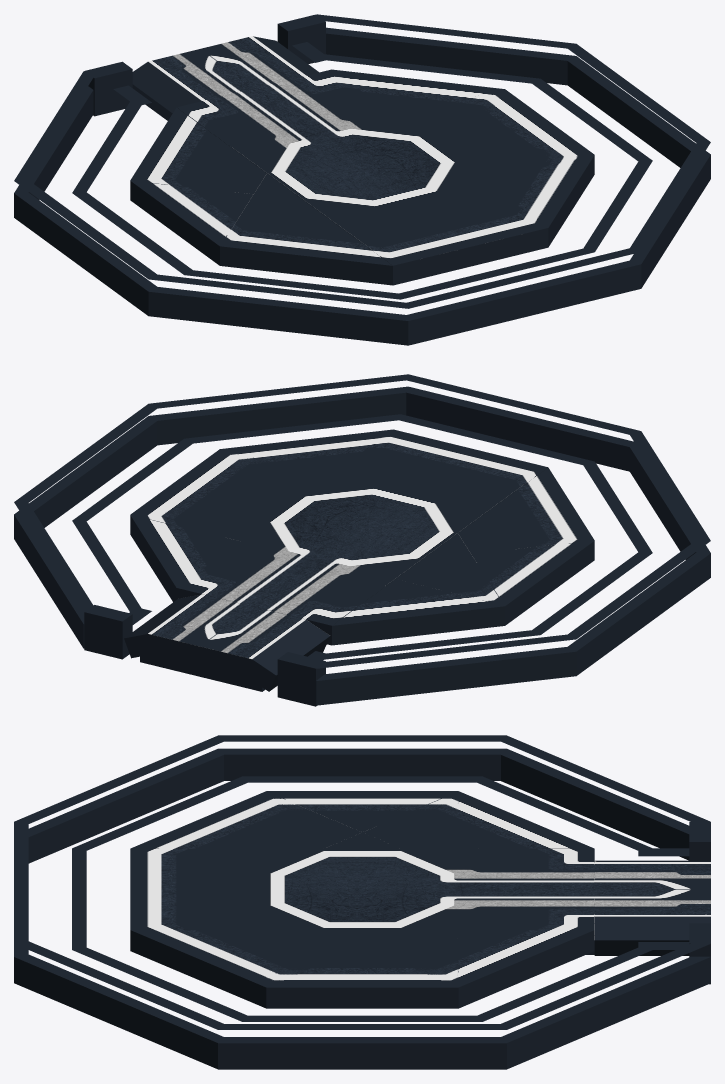
The model's file is portal_pad.obj.
3 renders of one model, top to bottom at view 1: azimuth 30°, elevation 25°; view 2: azimuth 150°, elevation 25°; view 3: azimuth 270°, elevation 25°, orthographic. The views are drawn at different scales.
Parts seen in each view (by area): view 1: octagon.016, octagon.022, octagon.015, octagon.023, octagon.002, octagon.001, octagon.004, octagon.019, octagon.003, octagon.005, octagon.000, octagon (+18 smaller); view 2: octagon.016, octagon.023, octagon.015, octagon.022, octagon, octagon.019, octagon.000, octagon.001, octagon.003, octagon.005, octagon.004, octagon.017 (+19 smaller); view 3: octagon.016, octagon.023, octagon.015, octagon.022, octagon.005, octagon.003, octagon.000, octagon.004, octagon.002, octagon, octagon.019, octagon.018 (+16 smaller).
Boxes of the visible parts, <box> form: octagon.016: <box>177,69,548,285</box>; octagon.022: <box>220,69,504,285</box>; octagon.015: <box>130,107,594,247</box>; octagon.023: <box>130,89,594,265</box>; octagon.002: <box>148,286,408,345</box>; octagon.001: <box>402,260,641,345</box>; octagon.004: <box>326,27,576,85</box>; octagon.019: <box>148,36,305,100</box>; octagon.003: <box>14,192,156,315</box>; octagon.005: <box>567,56,710,167</box>; octagon.000: <box>628,154,710,288</box>; octagon: <box>14,86,93,199</box>; octagon.016: <box>176,429,547,645</box>; octagon.023: <box>130,449,594,625</box>; octagon.015: <box>220,429,504,645</box>; octagon.022: <box>130,467,594,602</box>; octagon: <box>316,646,576,705</box>; octagon.019: <box>147,594,305,677</box>; octagon.000: <box>149,386,411,445</box>; octagon.001: <box>405,386,636,471</box>; octagon.003: <box>568,552,710,675</box>; octagon.005: <box>14,416,157,527</box>; octagon.004: <box>14,514,84,648</box>; octagon.017: <box>245,619,329,691</box>; octagon.016: <box>130,848,594,929</box>; octagon.023: <box>266,791,458,1008</box>; octagon.015: <box>130,791,593,1008</box>; octagon.022: <box>131,791,594,1008</box>; octagon.005: <box>218,1037,506,1069</box>; octagon.003: <box>218,748,506,780</box>; octagon.000: <box>14,952,227,1069</box>; octagon.004: <box>497,956,710,1069</box>; octagon.002: <box>28,748,227,863</box>; octagon: <box>497,748,689,860</box>; octagon.019: <box>594,862,710,916</box>; octagon.018: <box>594,917,710,955</box>.
Size of the model in its own units: 3 by 0.1937 by 3.
